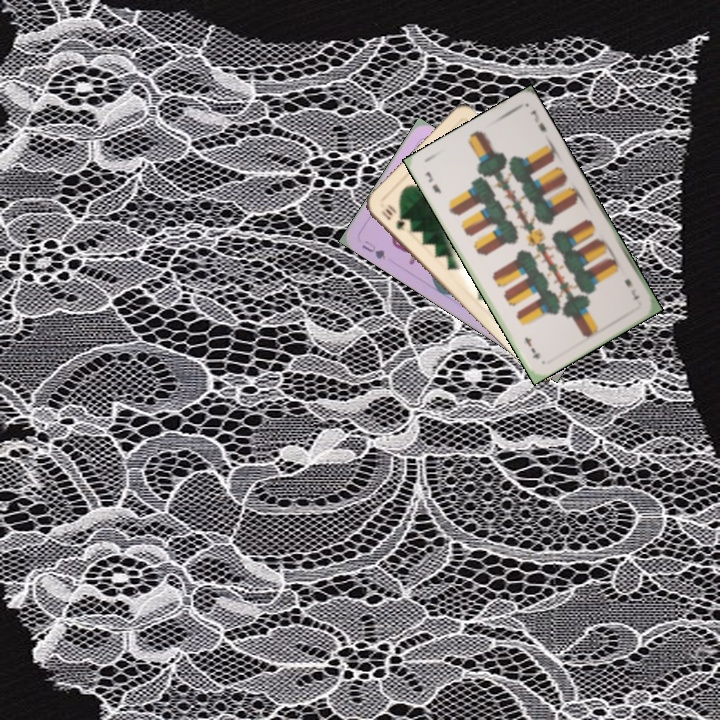E7: (421, 167, 444, 196), (620, 275, 642, 302)
G10: (376, 201, 407, 233)
GU: (357, 236, 388, 262)
